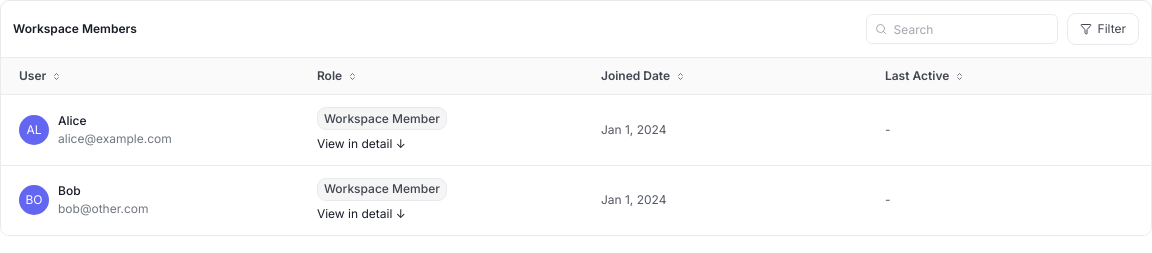
MembersTable › Search › should filter members by email when search query matches email
The image size is (1152, 253).
Type "bob@other" into the field with placeholder "Search" at (962, 29), box [866,14,1058,44]
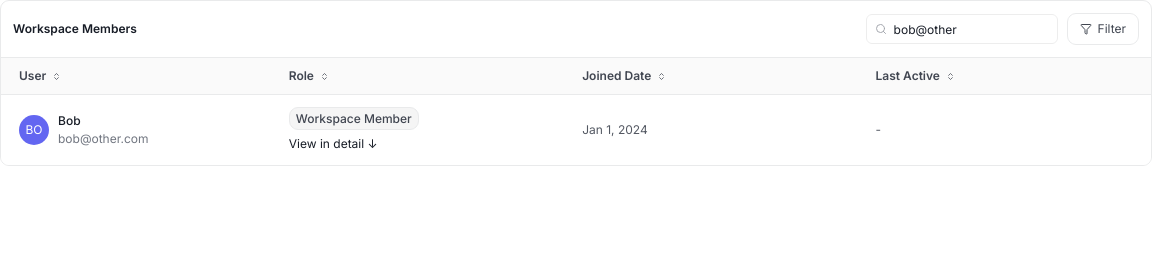
Expected: the text "Bob" is shown, [58,113,80,128]
Expected: the text "Alice" is gone
